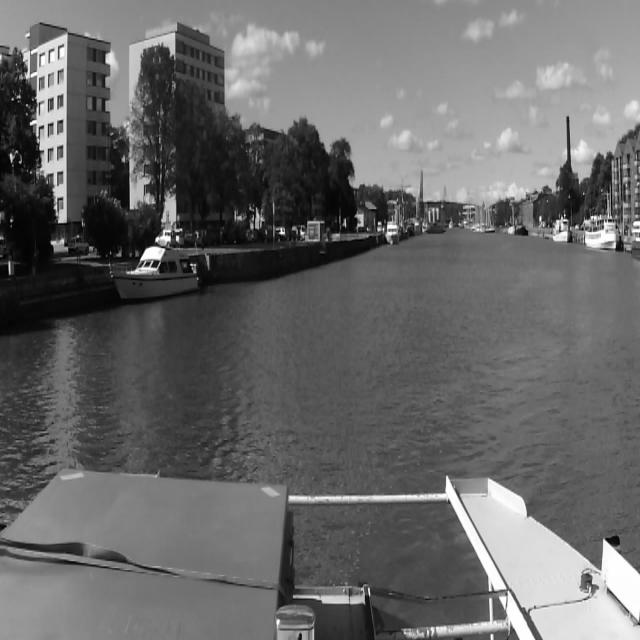ship: (106, 227, 202, 305), (582, 220, 619, 255), (551, 211, 569, 248), (420, 220, 450, 237), (387, 222, 399, 248)
